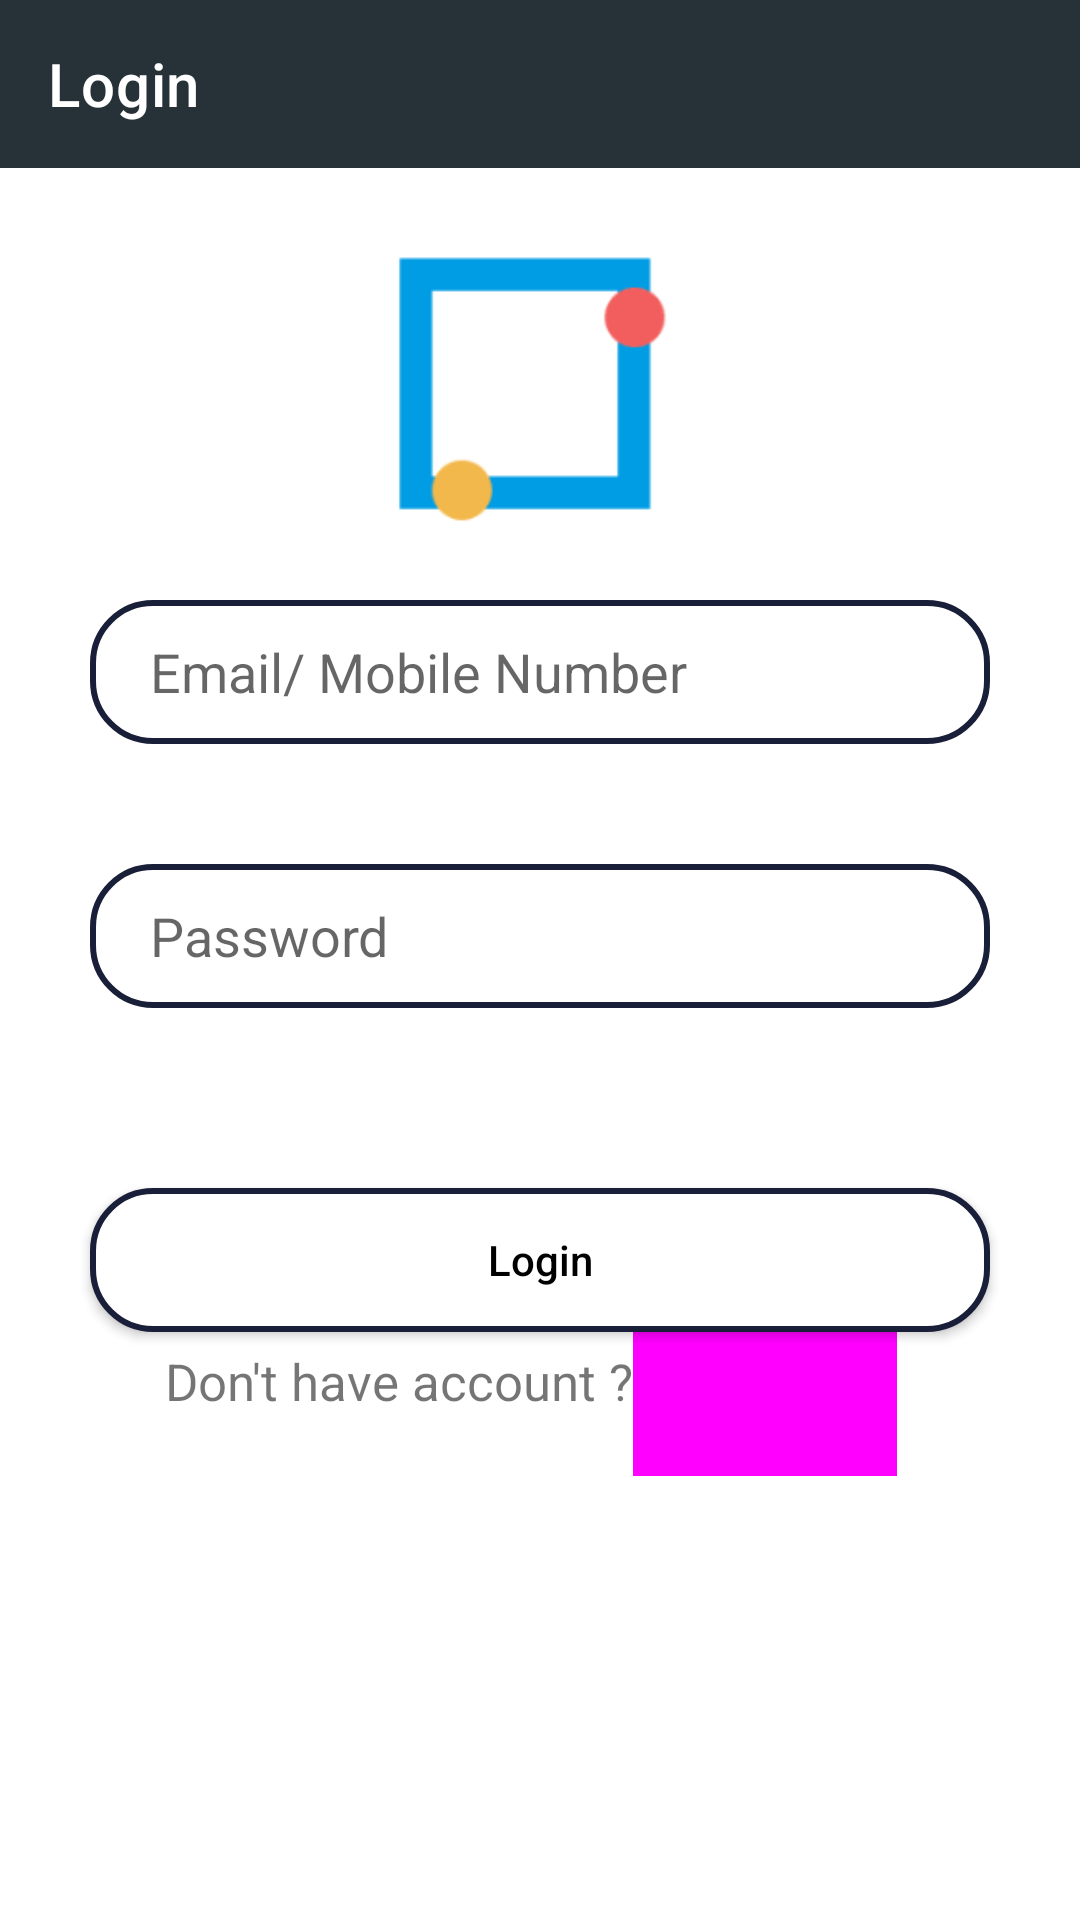

Where to tap for icons on this 1080 x 1920 app screen, as point (x, y):
appicons: point (532, 389)
